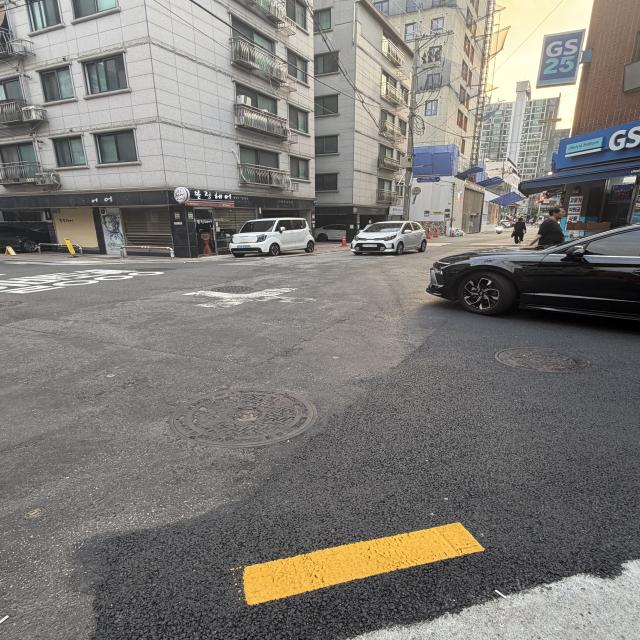car: (402, 196, 640, 339), (217, 211, 328, 264), (344, 212, 431, 267)
